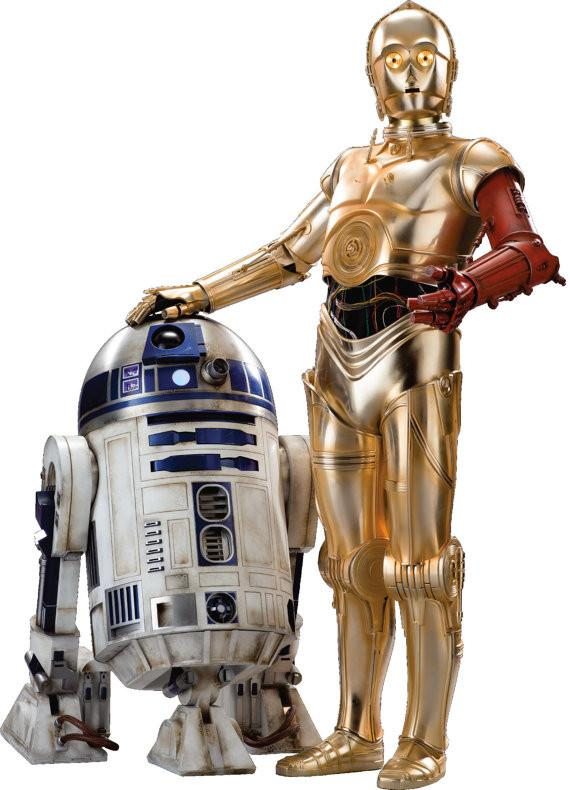r2d2: (1, 321, 324, 776)
